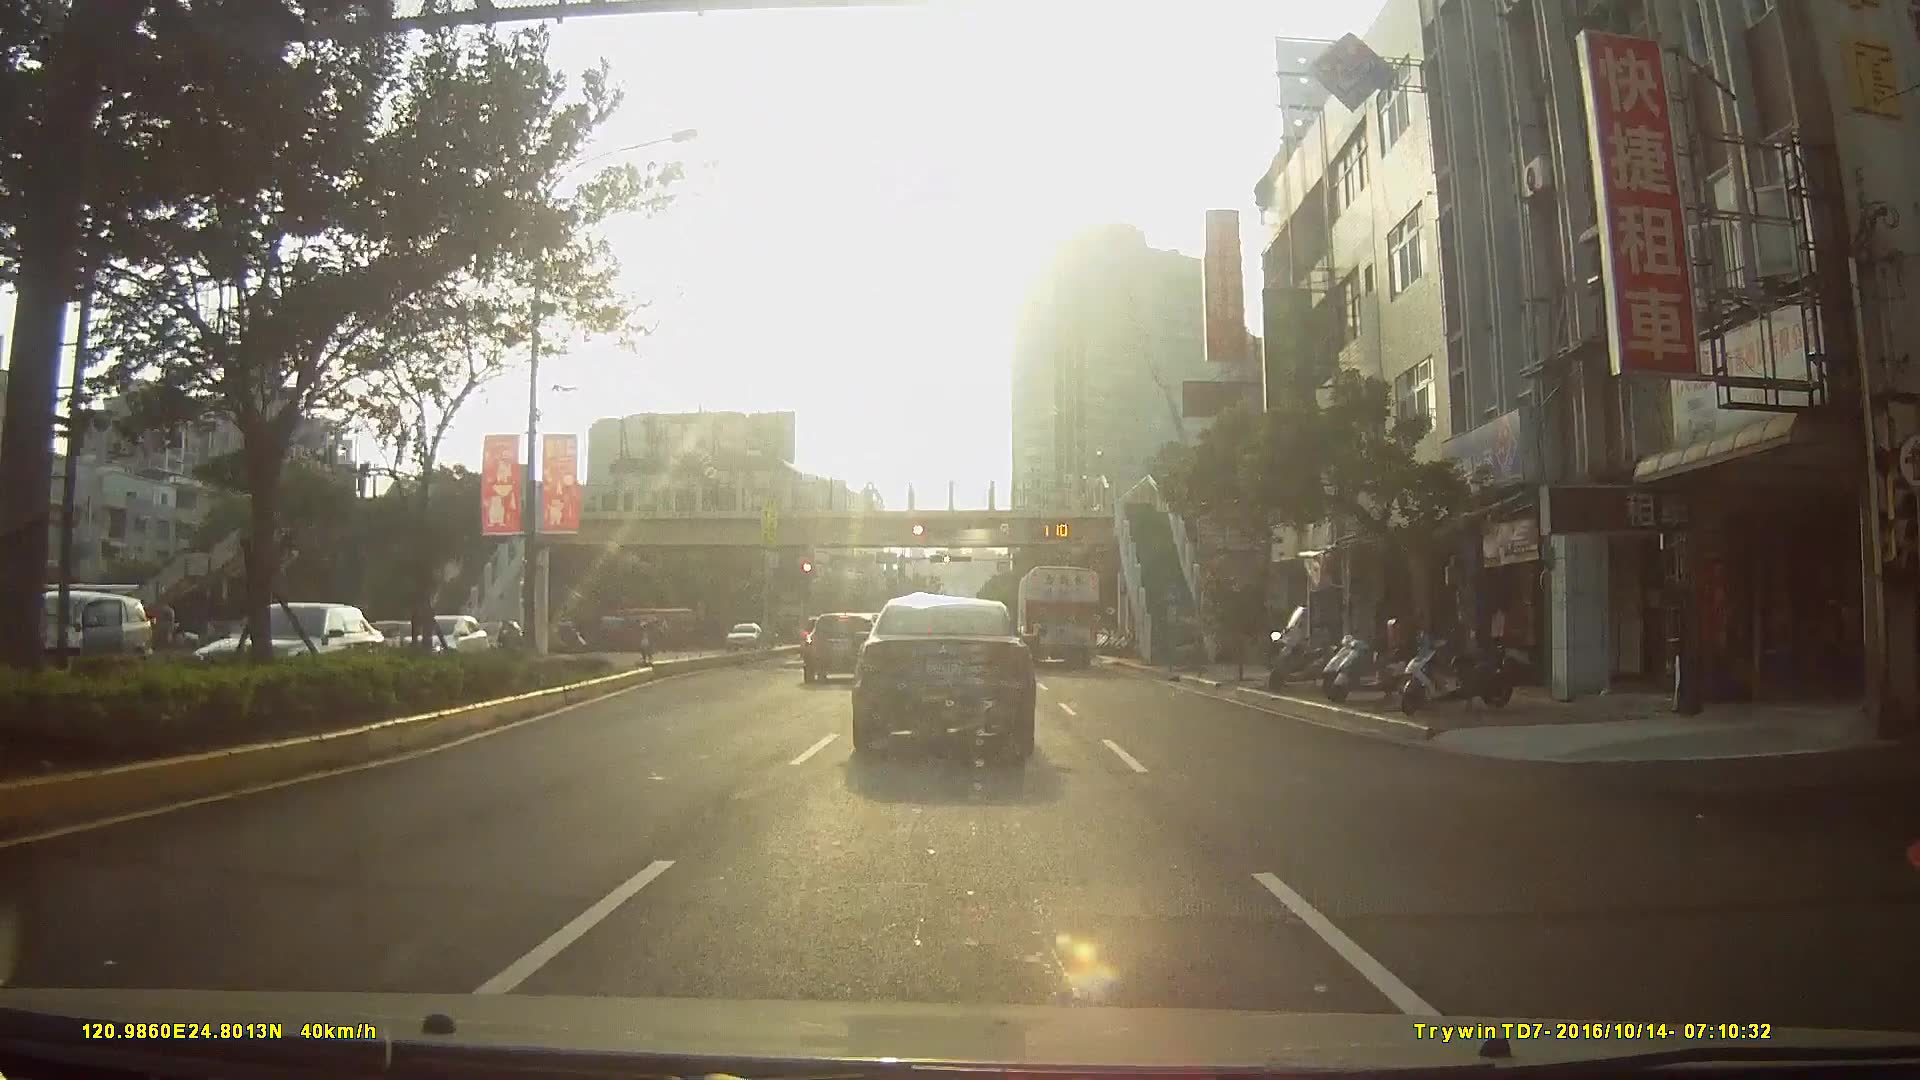vehicle: (849, 593, 1036, 753), (0, 589, 148, 674), (1014, 560, 1105, 669), (800, 611, 880, 686), (723, 618, 764, 650)
